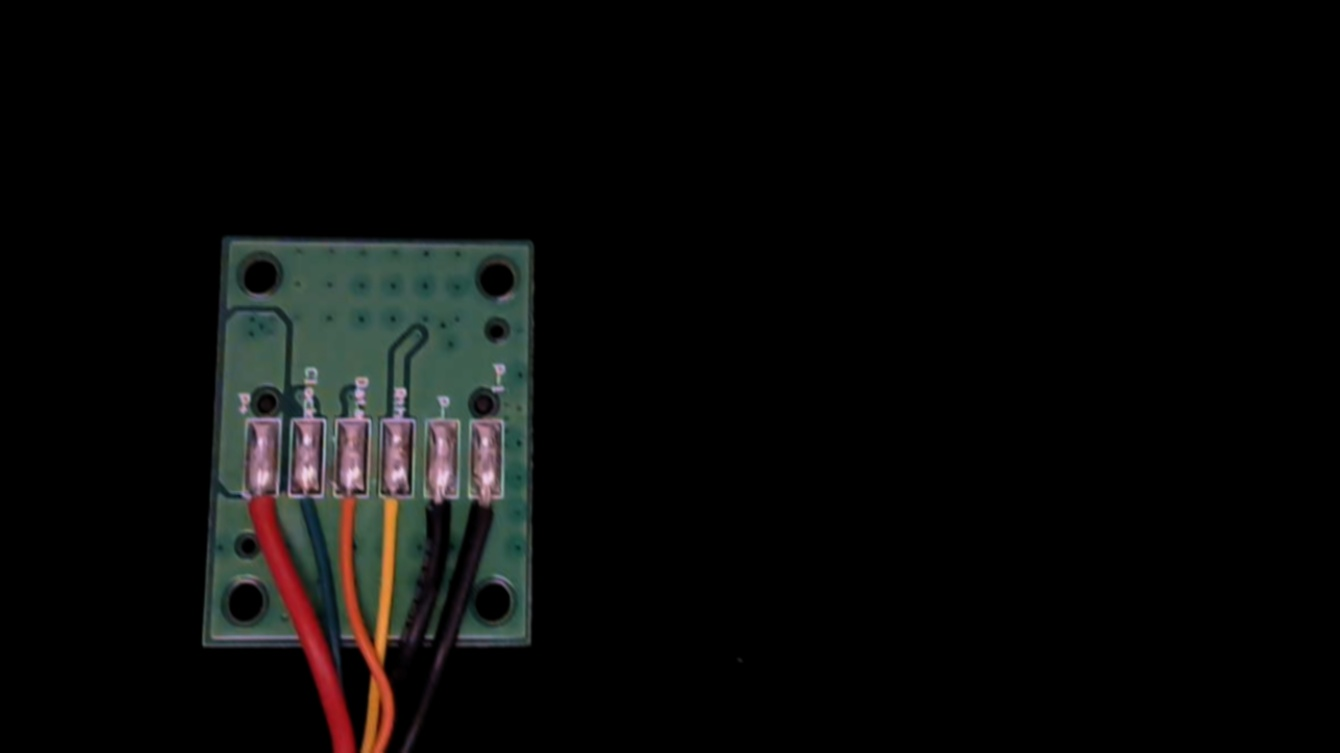Black: (421, 477, 456, 560)
Black1: (468, 474, 506, 559)
Green: (287, 471, 323, 548)
Orange: (330, 473, 367, 563)
Red: (240, 472, 277, 544)
Yellow: (375, 474, 414, 567)
